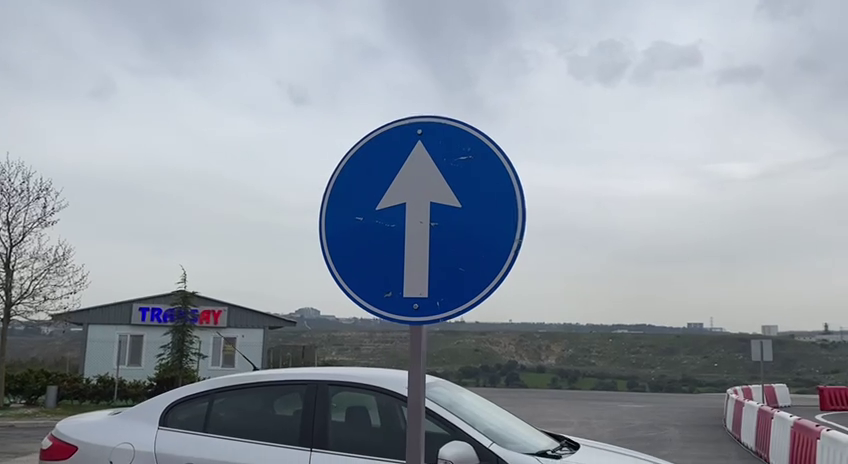forward: (312, 106, 535, 331)
